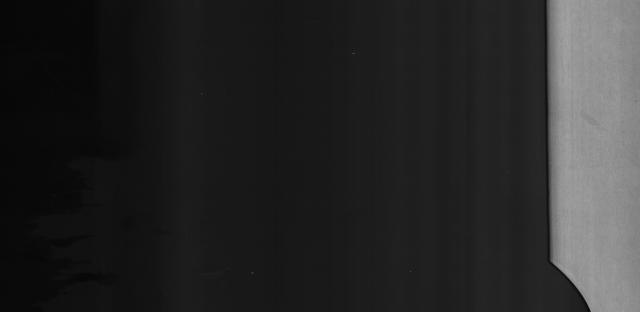crescent_gap: (543, 251, 608, 310)
